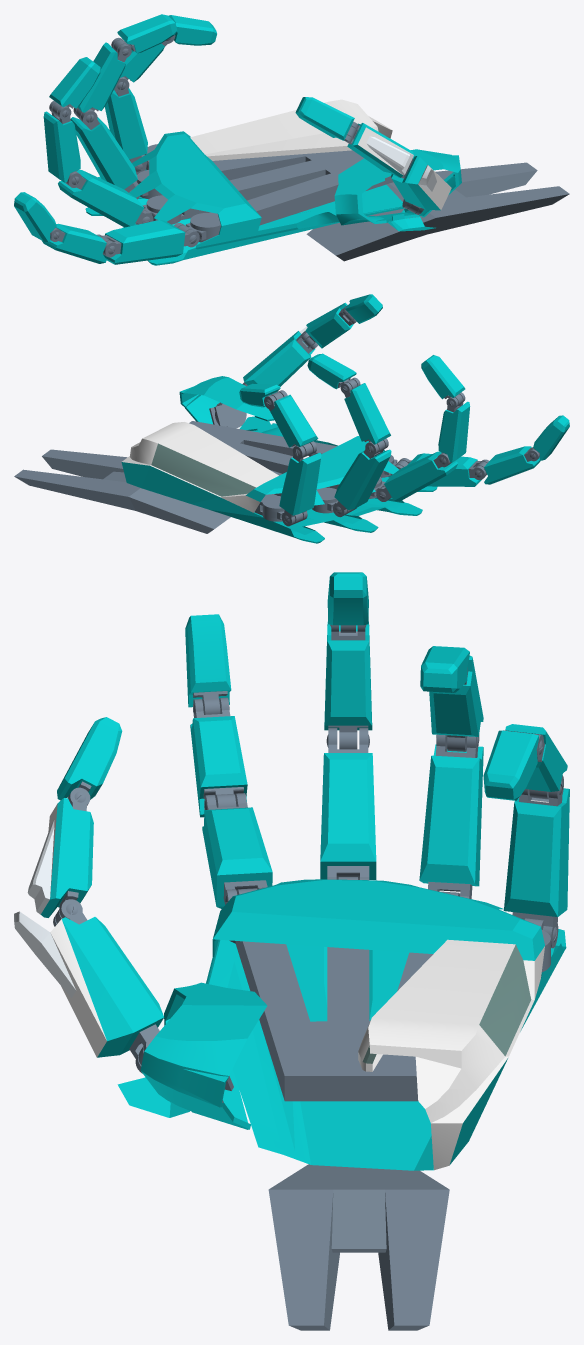
3 views of the same model, one above another, from view 1: azimuth 30°, elevation 25°; view 2: azimuth 150°, elevation 25°; view 3: azimuth 270°, elevation 25° (orthographic). The views are drawn at different scales.
Visible parts, largest first — view 1: Layer0_001; view 2: Layer0_001; view 3: Layer0_001.
Part boxes in pixels (x1=…): Layer0_001: x1=14, y1=14, x2=569, y2=265; Layer0_001: x1=14, y1=294, x2=569, y2=543; Layer0_001: x1=14, y1=572, x2=569, y2=1330.
Bounding box in the file's own units: 4726 × 2006 × 2408.
